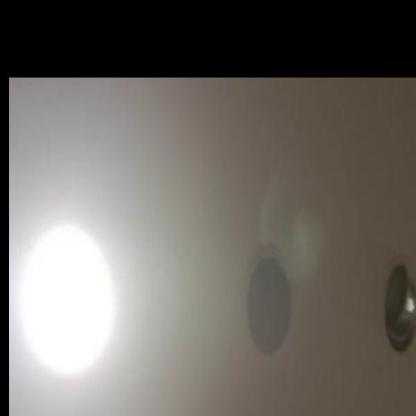light_off: (365, 236, 415, 373)
